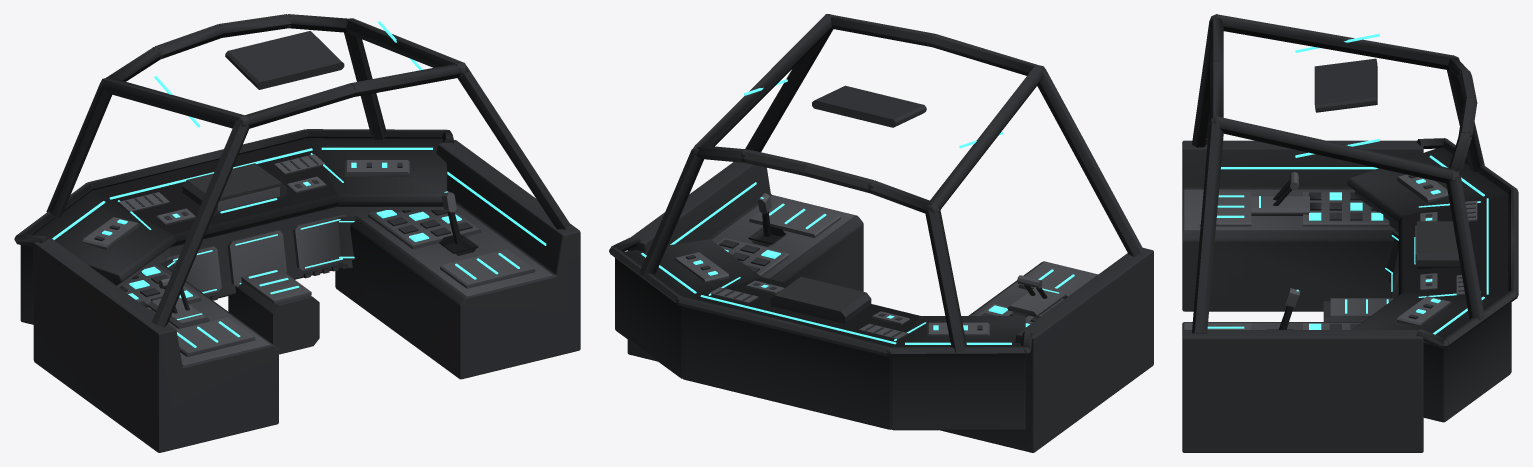
File: cockpit_generic.glb
3 renders of one model, left to right at view 1: azimuth 30°, elevation 25°; view 2: azimuth 150°, elevation 25°; view 3: azimuth 270°, elevation 25°, orthographic. The views are drawn at different scales.
Visible parts, largest first — view 1: cockpit_generic_mesh; view 2: cockpit_generic_mesh; view 3: cockpit_generic_mesh.
Part boxes in pixels (x1,y1,x2,y2): cockpit_generic_mesh: (14, 14, 580, 452); cockpit_generic_mesh: (609, 14, 1153, 452); cockpit_generic_mesh: (1182, 14, 1518, 452).
Size of the model in its own units: 2.81 by 1.88 by 1.95.
